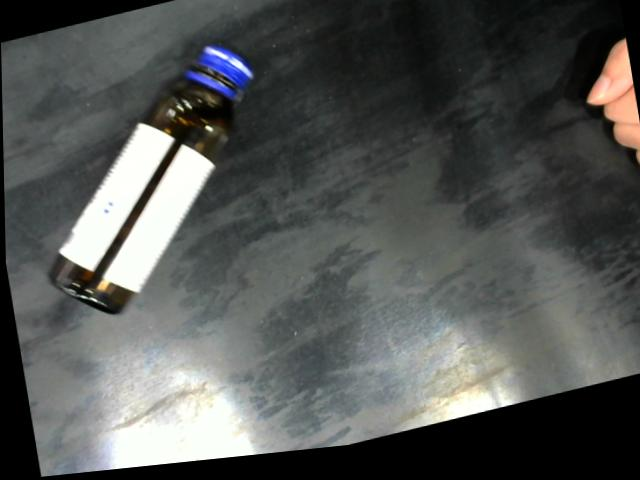glass: (42, 40, 263, 327)
